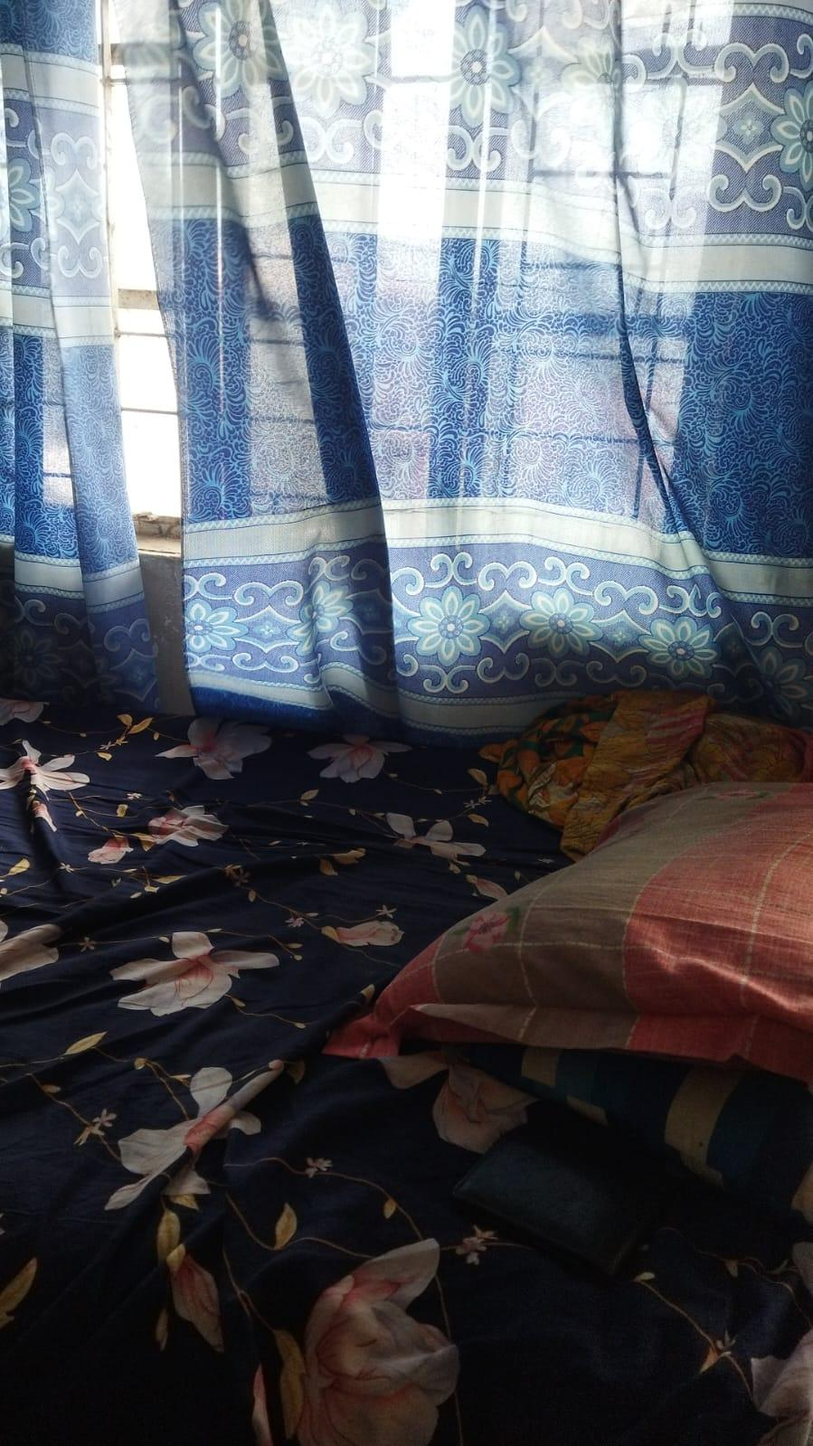Pillow: (432, 661, 802, 1171)
